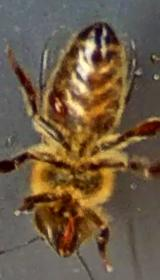varroa_mite: (46, 84, 82, 122)
